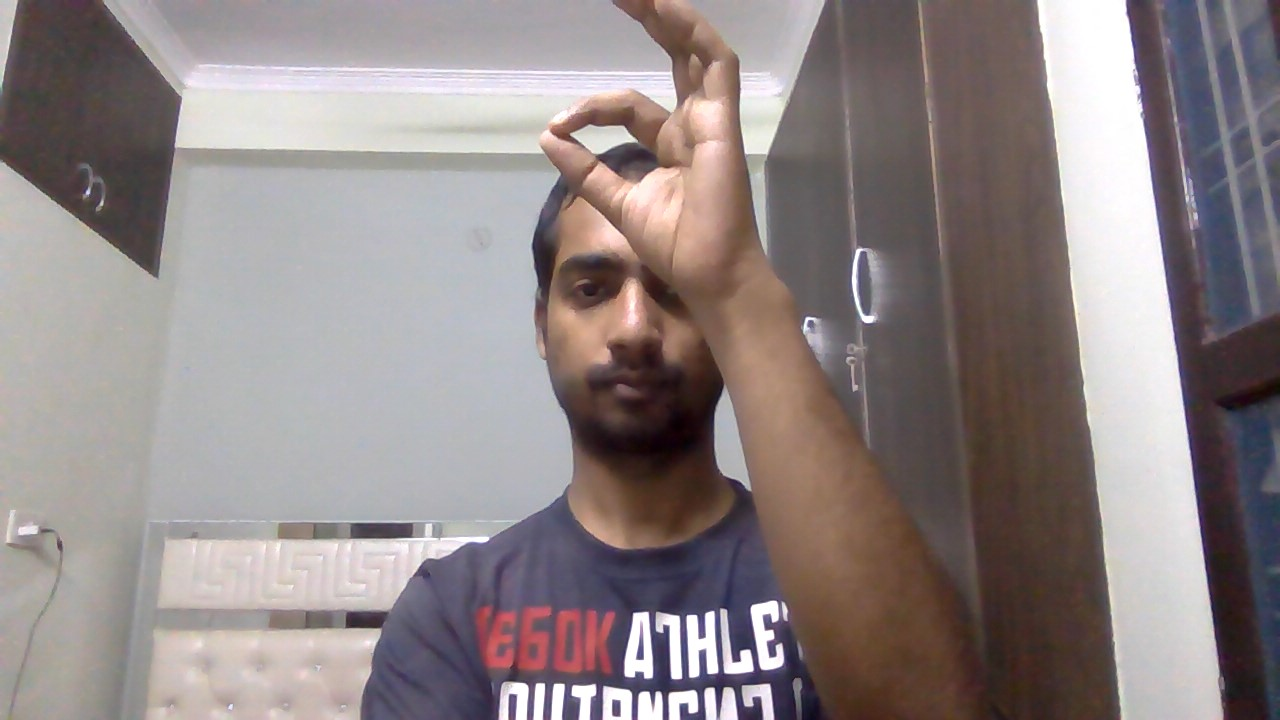Copy: (494, 4, 800, 296)
